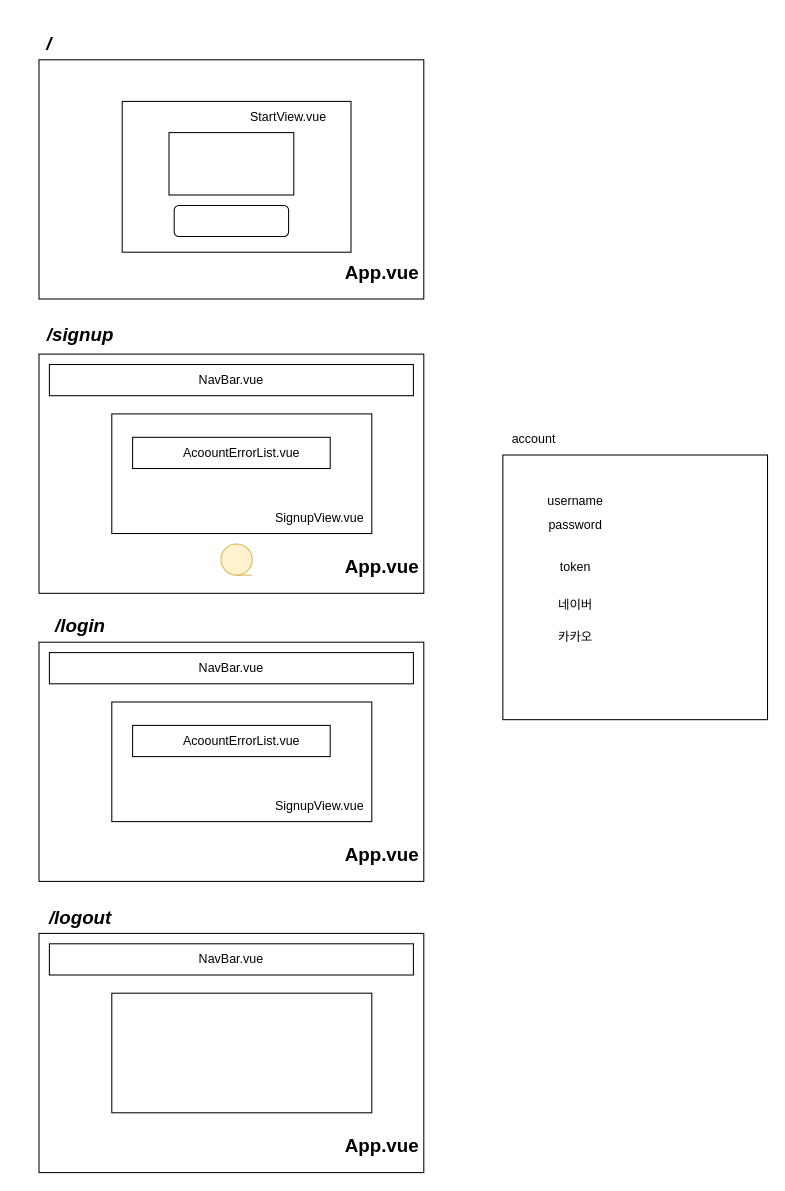
This 785x1191 diagram has some shape labels left out. The centre of each missing label's shape, as x and y in pixels:
LogoutView.vue: pixel 241 1052
start: pixel 231 220
로고 타이포: pixel 231 163
